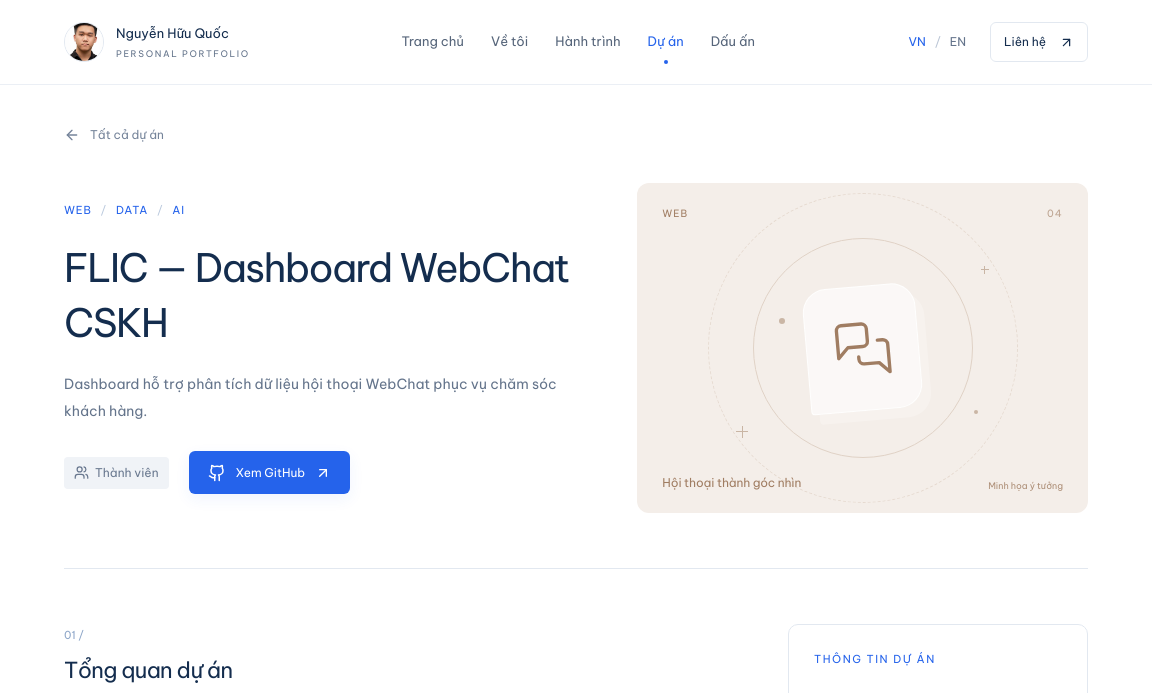
Test: case study routes and content authenticity › opens flic-dashboard with the confirmed role and real source link
This screenshot has width=1152, height=693.
Check: the heading "FLIC — Dashboard WebChat CSKH" is shown, box [64, 241, 582, 351]
Click the button named "English".
click(958, 42)  # box [948, 22, 968, 62]
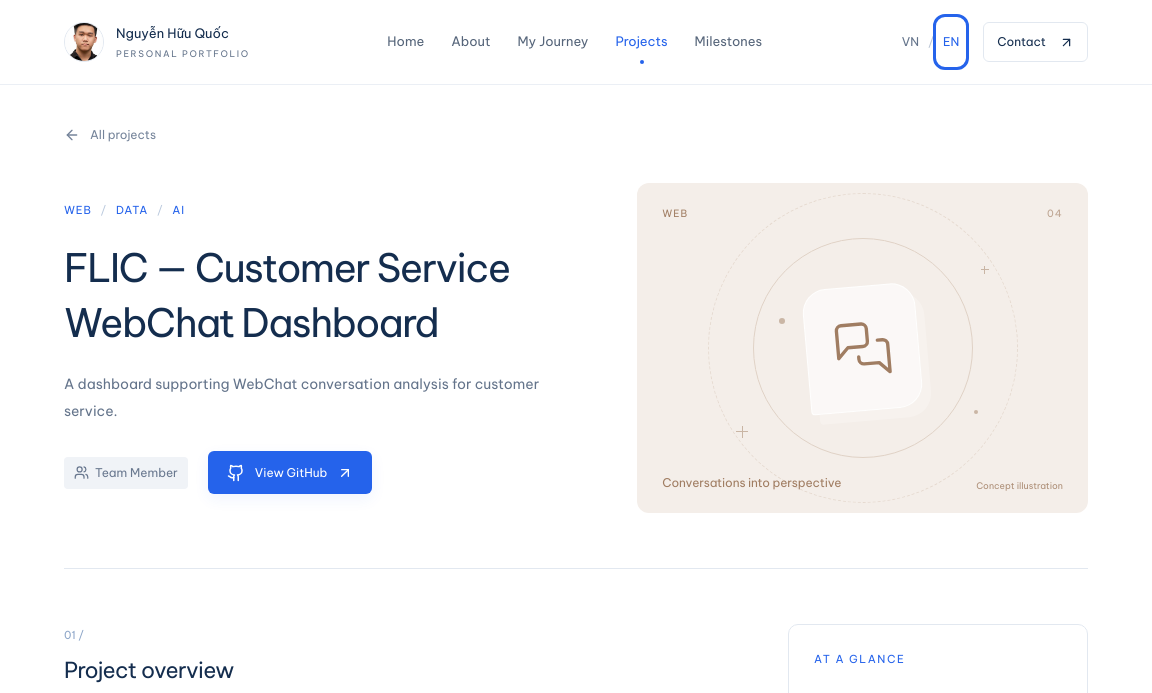
Check: the heading "FLIC — Customer Service WebChat Dashboard" is shown, box [64, 241, 582, 351]
Check: the heading "Project overview" is shown, box [64, 656, 234, 684]
Check: the text "Team Member" is shown, box [64, 457, 188, 489]
